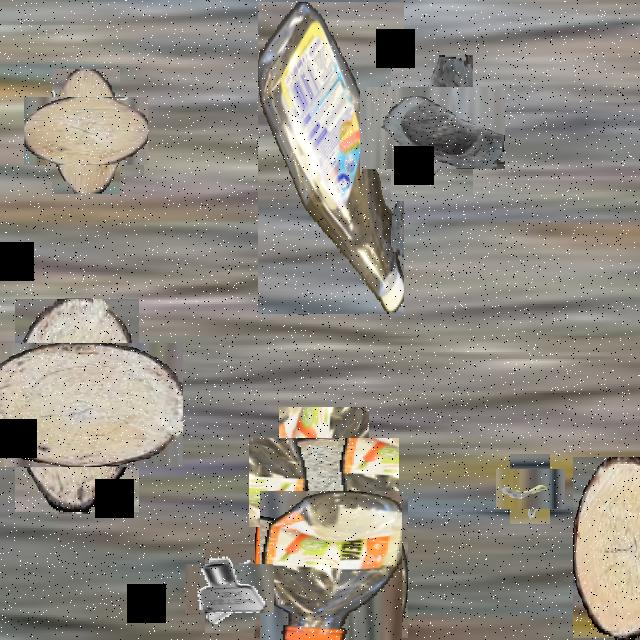glass: (375, 71, 489, 185)
metal: (195, 554, 265, 623), (502, 461, 558, 517), (106, 108, 144, 176)
plastic: (258, 2, 404, 314), (257, 493, 405, 640)
wood: (0, 321, 161, 489), (264, 422, 384, 542), (573, 457, 640, 638), (38, 83, 134, 180)
